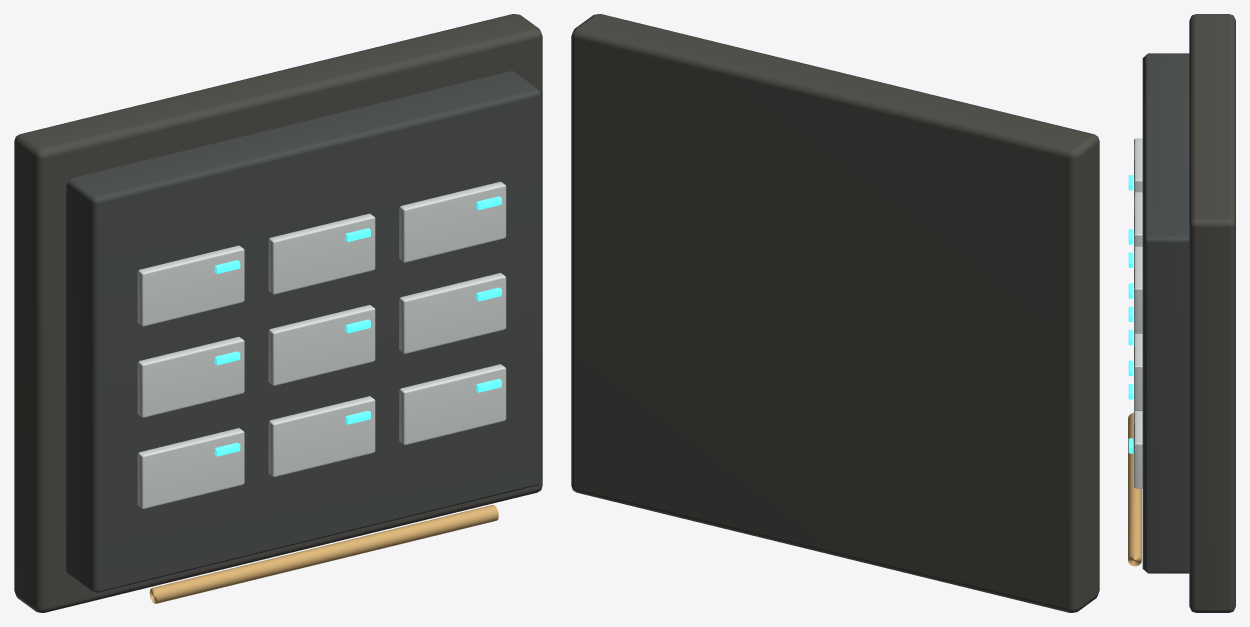
File: hp_furniture_wall_archive_cabinet_v1.glb
3 renders of one model, left to right at view 1: azimuth 30°, elevation 25°; view 2: azimuth 150°, elevation 25°; view 3: azimuth 270°, elevation 25°, orthographic. The views are drawn at different scales.
Visible parts, largest first — view 1: shallow_archive_case, wall_mounted_backplate, bottom_data_cable, thin_document_slot.002, thin_document_slot.005, thin_document_slot.008, thin_document_slot.004, thin_document_slot, thin_document_slot.001, thin_document_slot.007, thin_document_slot.003, thin_document_slot.006; view 2: wall_mounted_backplate; view 3: wall_mounted_backplate, shallow_archive_case, bottom_data_cable, thin_document_slot.008, thin_document_slot.007, thin_document_slot.006, thin_document_slot.002, thin_document_slot.005.
Boxes of the visible parts, box(x1,y1,x2,y2) form: shallow_archive_case: box(66, 70, 542, 593); wall_mounted_backplate: box(14, 14, 542, 612); bottom_data_cable: box(149, 505, 498, 603); thin_document_slot.002: box(137, 245, 244, 326); thin_document_slot.005: box(268, 213, 375, 294); thin_document_slot.008: box(399, 181, 506, 262); thin_document_slot.004: box(268, 305, 375, 385); thin_document_slot: box(137, 428, 244, 508); thin_document_slot.001: box(137, 337, 244, 417); thin_document_slot.007: box(399, 273, 506, 353); thin_document_slot.003: box(268, 396, 375, 476); thin_document_slot.006: box(399, 364, 506, 444); wall_mounted_backplate: box(571, 14, 1099, 612); wall_mounted_backplate: box(1189, 14, 1235, 612); shallow_archive_case: box(1142, 53, 1189, 573); bottom_data_cable: box(1128, 412, 1141, 566); thin_document_slot.008: box(1134, 246, 1142, 333); thin_document_slot.007: box(1134, 332, 1142, 411); thin_document_slot.006: box(1134, 410, 1142, 488); thin_document_slot.002: box(1134, 138, 1142, 193); thin_document_slot.005: box(1134, 192, 1142, 247).
Bounding box in the file's own units: 1.28 × 1.12 × 0.278.
